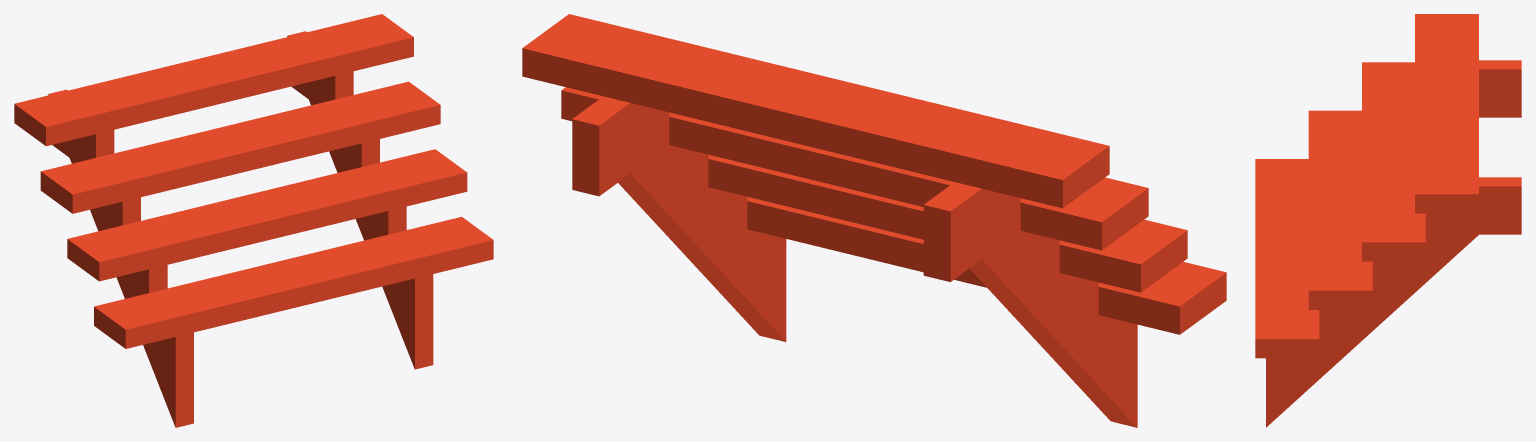
Rendered from SM_Stairs_Wood_Regular_2m_Top.fbx.
3 views of the same model, side by side, from view 1: azimuth 30°, elevation 25°; view 2: azimuth 150°, elevation 25°; view 3: azimuth 270°, elevation 25° (orthographic). The views are drawn at different scales.
Parts seen in each view (by area): view 1: stairs-wood-regular-2m-top; view 2: stairs-wood-regular-2m-top; view 3: stairs-wood-regular-2m-top.
Boxes of the visible parts, x1=… form: stairs-wood-regular-2m-top: x1=14, y1=14, x2=493, y2=427; stairs-wood-regular-2m-top: x1=522, y1=14, x2=1226, y2=427; stairs-wood-regular-2m-top: x1=1255, y1=14, x2=1521, y2=427.
Size of the model in its own units: 2 by 1.35 by 1.25.
